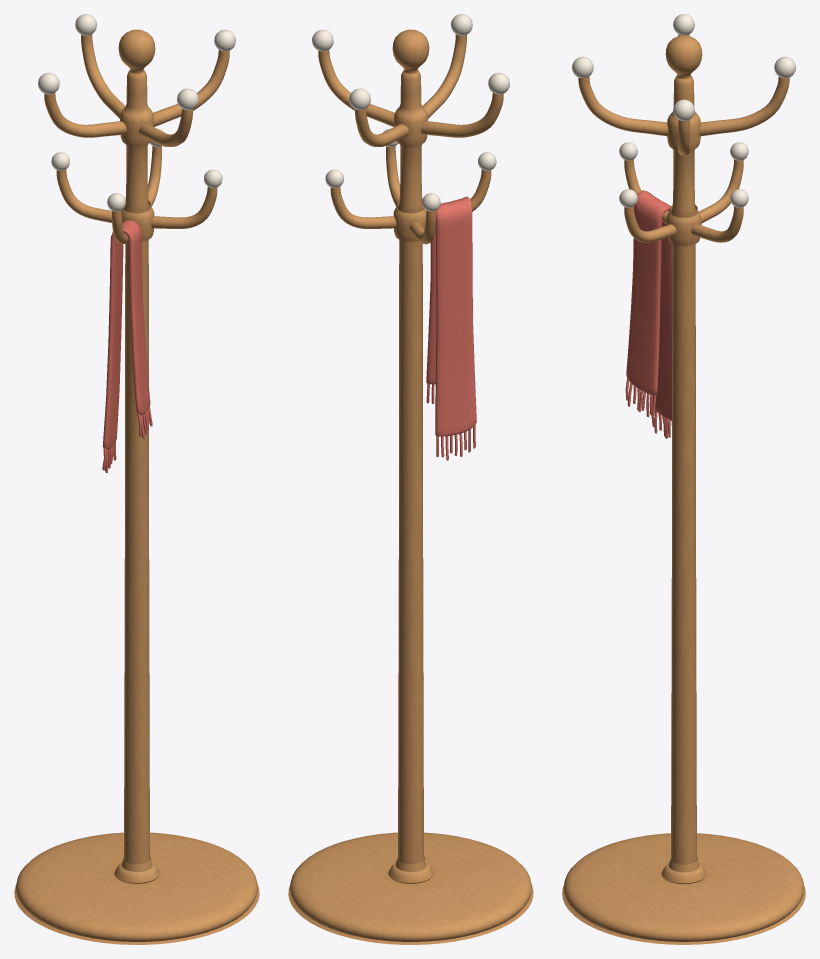
The model's file is coat-rack.glb.
3 renders of one model, left to right at view 1: azimuth 30°, elevation 25°; view 2: azimuth 150°, elevation 25°; view 3: azimuth 270°, elevation 25°, orthographic.
Visible parts, largest first — view 1: coat-rack_body; view 2: coat-rack_body; view 3: coat-rack_body.
Boxes of the visible parts, x1,y1,x2,y2 form: coat-rack_body: (14,14,259,944); coat-rack_body: (288,14,533,944); coat-rack_body: (562,14,805,944).
Size of the model in its own units: 0.4662 by 1.81 by 0.4662.
1 material, 1 textured.
